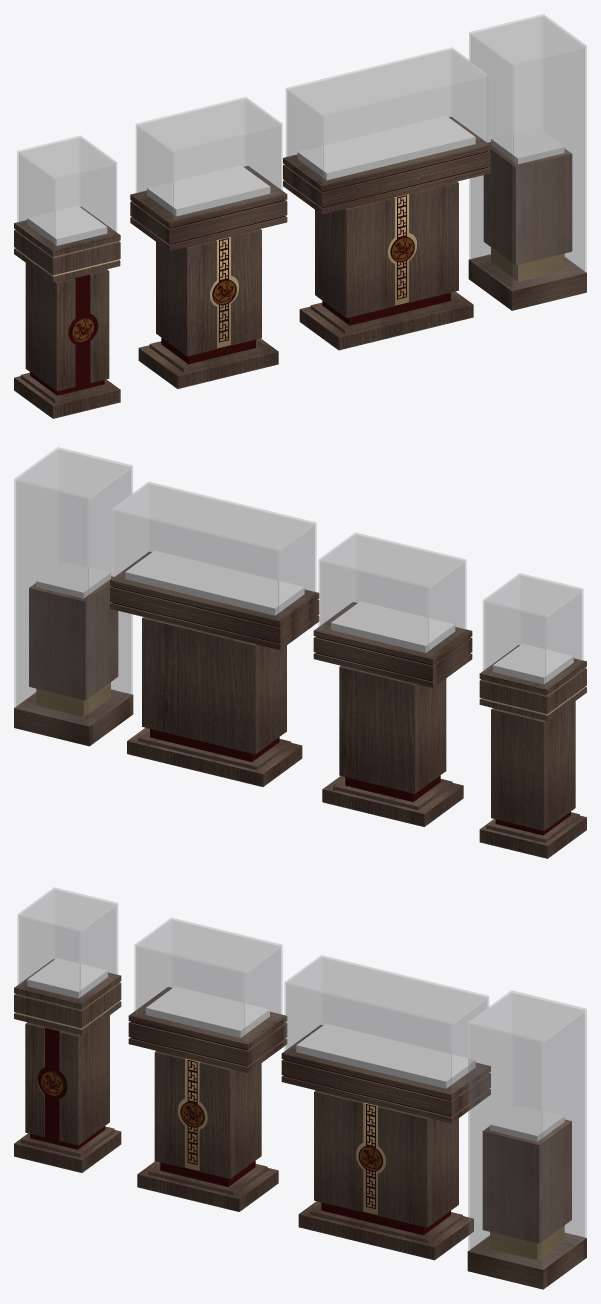
3 renders of one model, top to bottom at view 1: azimuth 30°, elevation 25°; view 2: azimuth 150°, elevation 25°; view 3: azimuth 330°, elevation 25°, orthographic.
Visible parts, largest first — view 1: Obj3d66-12805346-87-34, Obj3d66-12805346-69-582, Obj3d66-12805346-42-435, Obj3d66-12805346-15-966, Obj3d66-12805346-85-452, Obj3d66-12805346-68-723, Obj3d66-12805346-57-674, Obj3d66-12805346-56-45, Obj3d66-12805346-41-638, Obj3d66-12805346-82-48, Obj3d66-12805346-16-157, Obj3d66-12805346-63-878 (+29 smaller); view 2: Obj3d66-12805346-87-34, Obj3d66-12805346-69-582, Obj3d66-12805346-70-979, Obj3d66-12805346-42-435, Obj3d66-12805346-43-927, Obj3d66-12805346-15-966, Obj3d66-12805346-16-157, Obj3d66-12805346-85-452, Obj3d66-12805346-68-723, Obj3d66-12805346-41-638, Obj3d66-12805346-82-48, Obj3d66-12805346-63-878 (+20 smaller); view 3: Obj3d66-12805346-87-34, Obj3d66-12805346-69-582, Obj3d66-12805346-42-435, Obj3d66-12805346-15-966, Obj3d66-12805346-85-452, Obj3d66-12805346-68-723, Obj3d66-12805346-56-45, Obj3d66-12805346-57-674, Obj3d66-12805346-41-638, Obj3d66-12805346-82-48, Obj3d66-12805346-16-157, Obj3d66-12805346-29-743 (+29 smaller).
Part boxes in pixels (left/top/right/bottom): Obj3d66-12805346-87-34: left=469, top=14, right=586, bottom=290; Obj3d66-12805346-69-582: left=286, top=47, right=488, bottom=184; Obj3d66-12805346-42-435: left=136, top=97, right=282, bottom=220; Obj3d66-12805346-15-966: left=17, top=135, right=116, bottom=249; Obj3d66-12805346-85-452: left=483, top=157, right=572, bottom=265; Obj3d66-12805346-68-723: left=297, top=116, right=475, bottom=180; Obj3d66-12805346-57-674: left=345, top=198, right=394, bottom=318; Obj3d66-12805346-56-45: left=409, top=182, right=458, bottom=302; Obj3d66-12805346-41-638: left=147, top=165, right=270, bottom=216; Obj3d66-12805346-82-48: left=468, top=254, right=586, bottom=310; Obj3d66-12805346-16-157: left=25, top=263, right=107, bottom=390; Obj3d66-12805346-63-878: left=283, top=151, right=490, bottom=207; Obj3d66-12805346-87-34: left=14, top=447, right=132, bottom=725; Obj3d66-12805346-69-582: left=112, top=482, right=316, bottom=619; Obj3d66-12805346-70-979: left=142, top=617, right=285, bottom=754; Obj3d66-12805346-42-435: left=318, top=532, right=466, bottom=656; Obj3d66-12805346-43-927: left=339, top=666, right=445, bottom=793; Obj3d66-12805346-15-966: left=483, top=573, right=583, bottom=687; Obj3d66-12805346-16-157: left=491, top=702, right=574, bottom=830; Obj3d66-12805346-85-452: left=29, top=592, right=118, bottom=700; Obj3d66-12805346-68-723: left=125, top=550, right=304, bottom=615; Obj3d66-12805346-41-638: left=331, top=601, right=455, bottom=652; Obj3d66-12805346-82-48: left=14, top=689, right=133, bottom=746; Obj3d66-12805346-63-878: left=110, top=586, right=319, bottom=642; Obj3d66-12805346-87-34: left=468, top=990, right=586, bottom=1269; Obj3d66-12805346-69-582: left=284, top=955, right=488, bottom=1093; Obj3d66-12805346-42-435: left=134, top=918, right=282, bottom=1041; Obj3d66-12805346-15-966: left=17, top=887, right=117, bottom=1002; Obj3d66-12805346-85-452: left=482, top=1129, right=571, bottom=1243; Obj3d66-12805346-68-723: left=296, top=1023, right=475, bottom=1088; Obj3d66-12805346-56-45: left=378, top=1106, right=428, bottom=1227; Obj3d66-12805346-57-674: left=314, top=1091, right=363, bottom=1211; Obj3d66-12805346-41-638: left=145, top=986, right=269, bottom=1037; Obj3d66-12805346-82-48: left=467, top=1232, right=586, bottom=1289; Obj3d66-12805346-16-157: left=27, top=1015, right=109, bottom=1144; Obj3d66-12805346-29-743: left=199, top=1062, right=230, bottom=1178.
Size of the model in its own units: 2825 by 1263 by 402.
9 materials, 4 textured.
